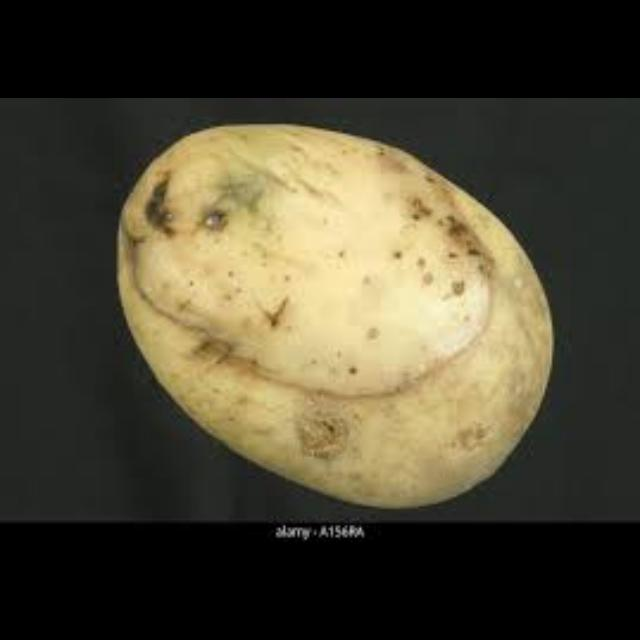Damaged potato: (110, 119, 560, 515)
